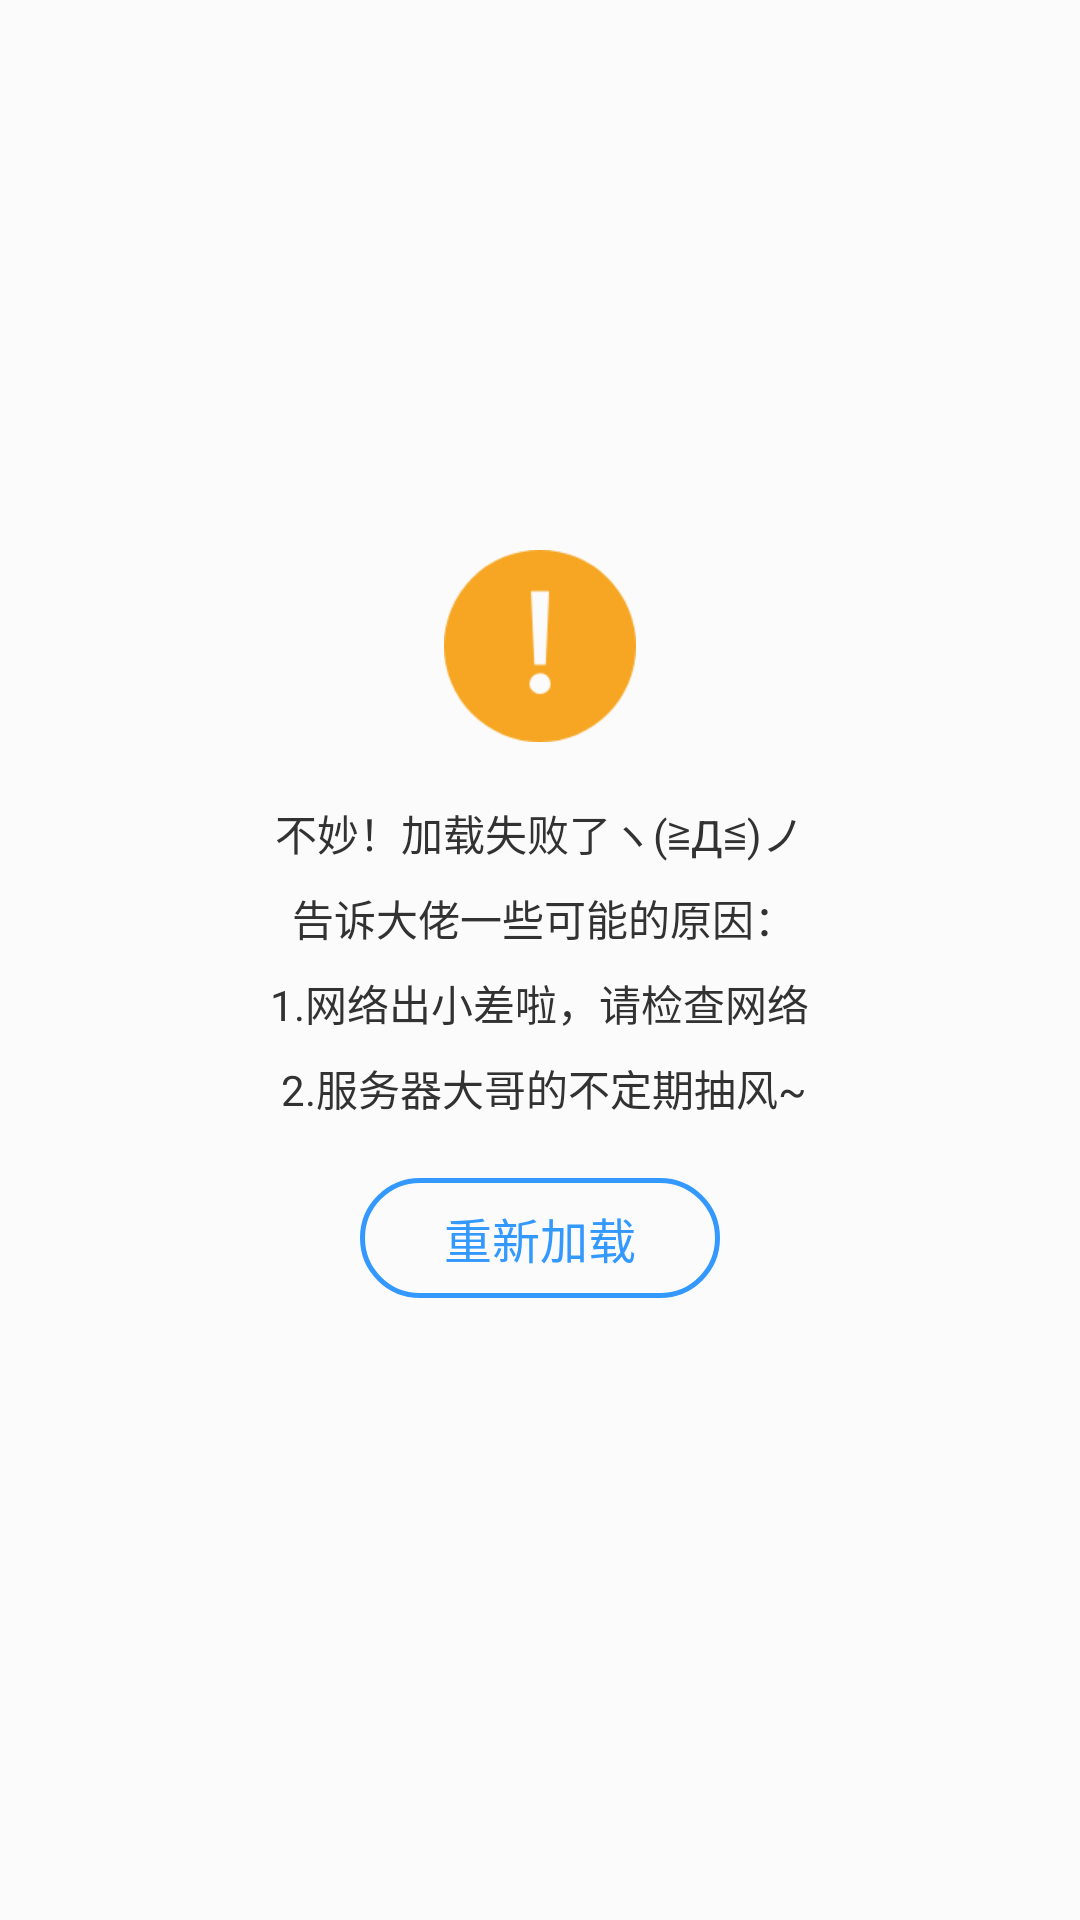

Screen size 1080x1920. Icon name, then its box in pixels as (x1, y1, x2, y2):
error: (444, 550, 636, 742)
